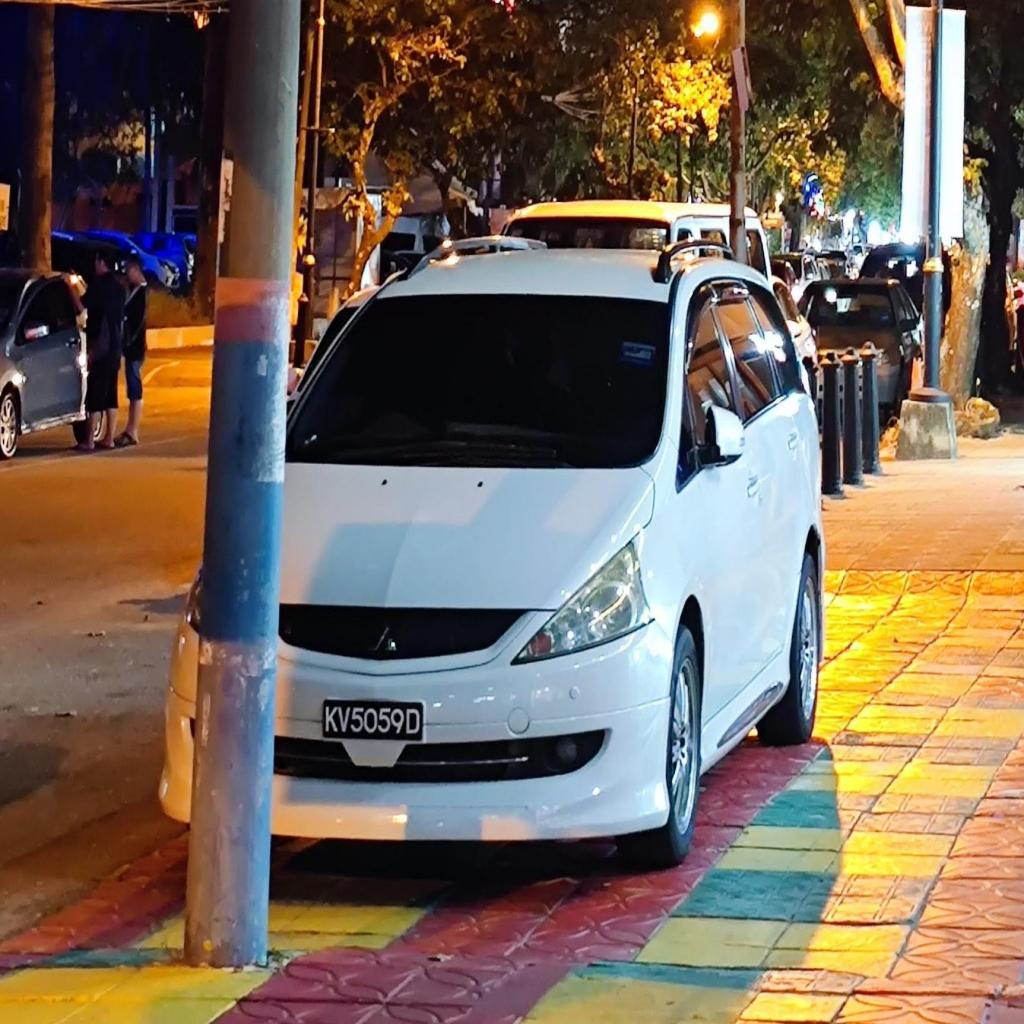car: (270, 243, 823, 863)
car plate: (322, 699, 423, 740)
